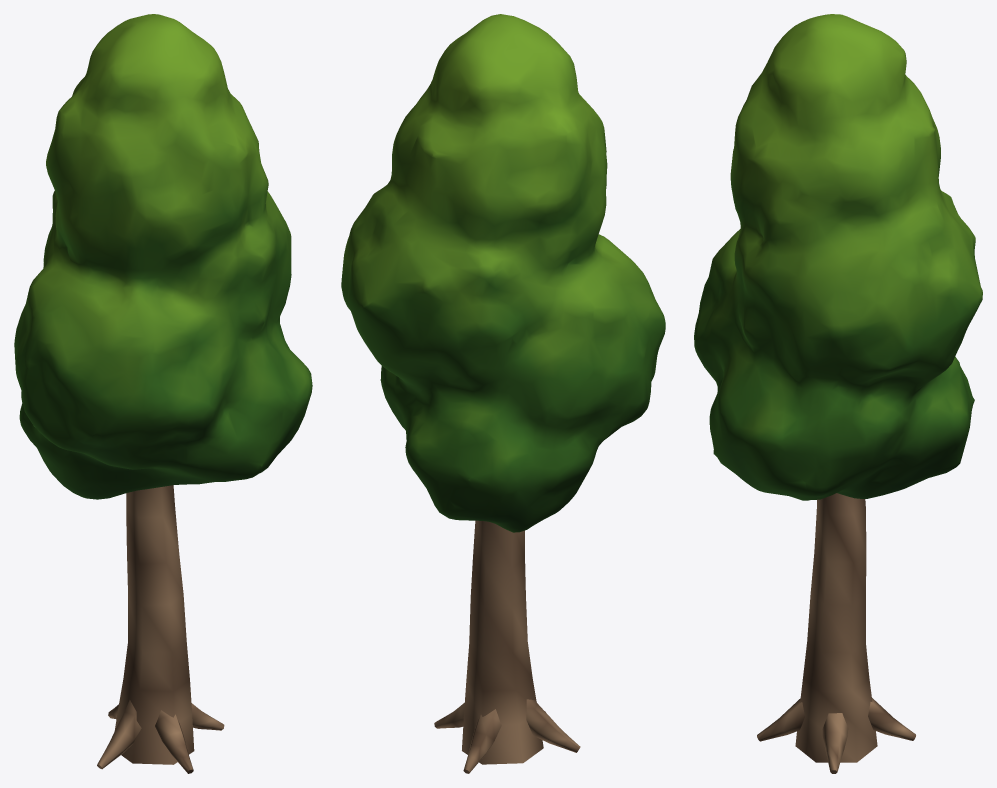
Rendered from SM_StylizedTree1.fbx.
3 views of the same model, side by side, from view 1: azimuth 30°, elevation 25°; view 2: azimuth 150°, elevation 25°; view 3: azimuth 270°, elevation 25° (orthographic).
Visible parts, largest first — view 1: SM_StylizedTree1; view 2: SM_StylizedTree1; view 3: SM_StylizedTree1.
Part boxes in pixels (x1,y1,x2,y2): SM_StylizedTree1: [14, 14, 312, 773]; SM_StylizedTree1: [341, 14, 665, 773]; SM_StylizedTree1: [694, 14, 982, 773].
Size of what is drawn, in the model's own units: 3.2 by 8.23 by 2.95.
